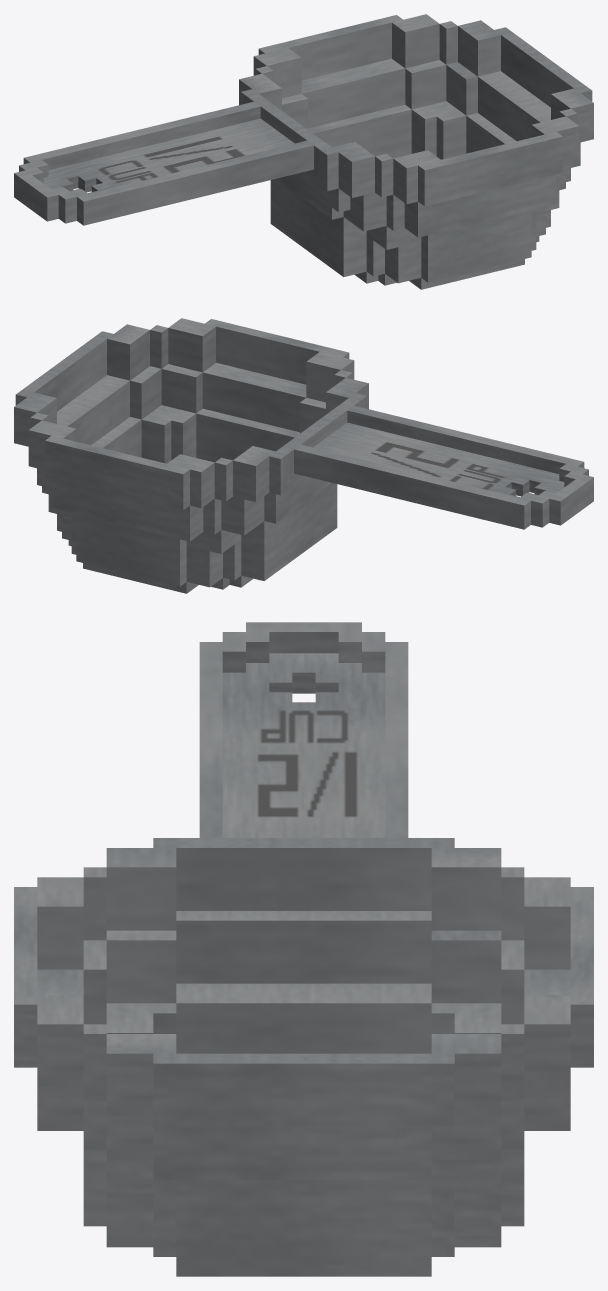
The model's file is Cup_1Half.fbx.
3 renders of one model, top to bottom at view 1: azimuth 30°, elevation 25°; view 2: azimuth 150°, elevation 25°; view 3: azimuth 270°, elevation 25°, orthographic. The views are drawn at different scales.
Parts seen in each view (by area): view 1: Polygon; view 2: Polygon; view 3: Polygon.
Boxes of the visible parts, x1,y1,x2,y2 form: Polygon: (14,14,593,289); Polygon: (14,318,593,593); Polygon: (14,622,593,1276).
Bounding box in the file's own units: 4.5 × 1.2 × 2.5.
2 materials, 2 textured.
